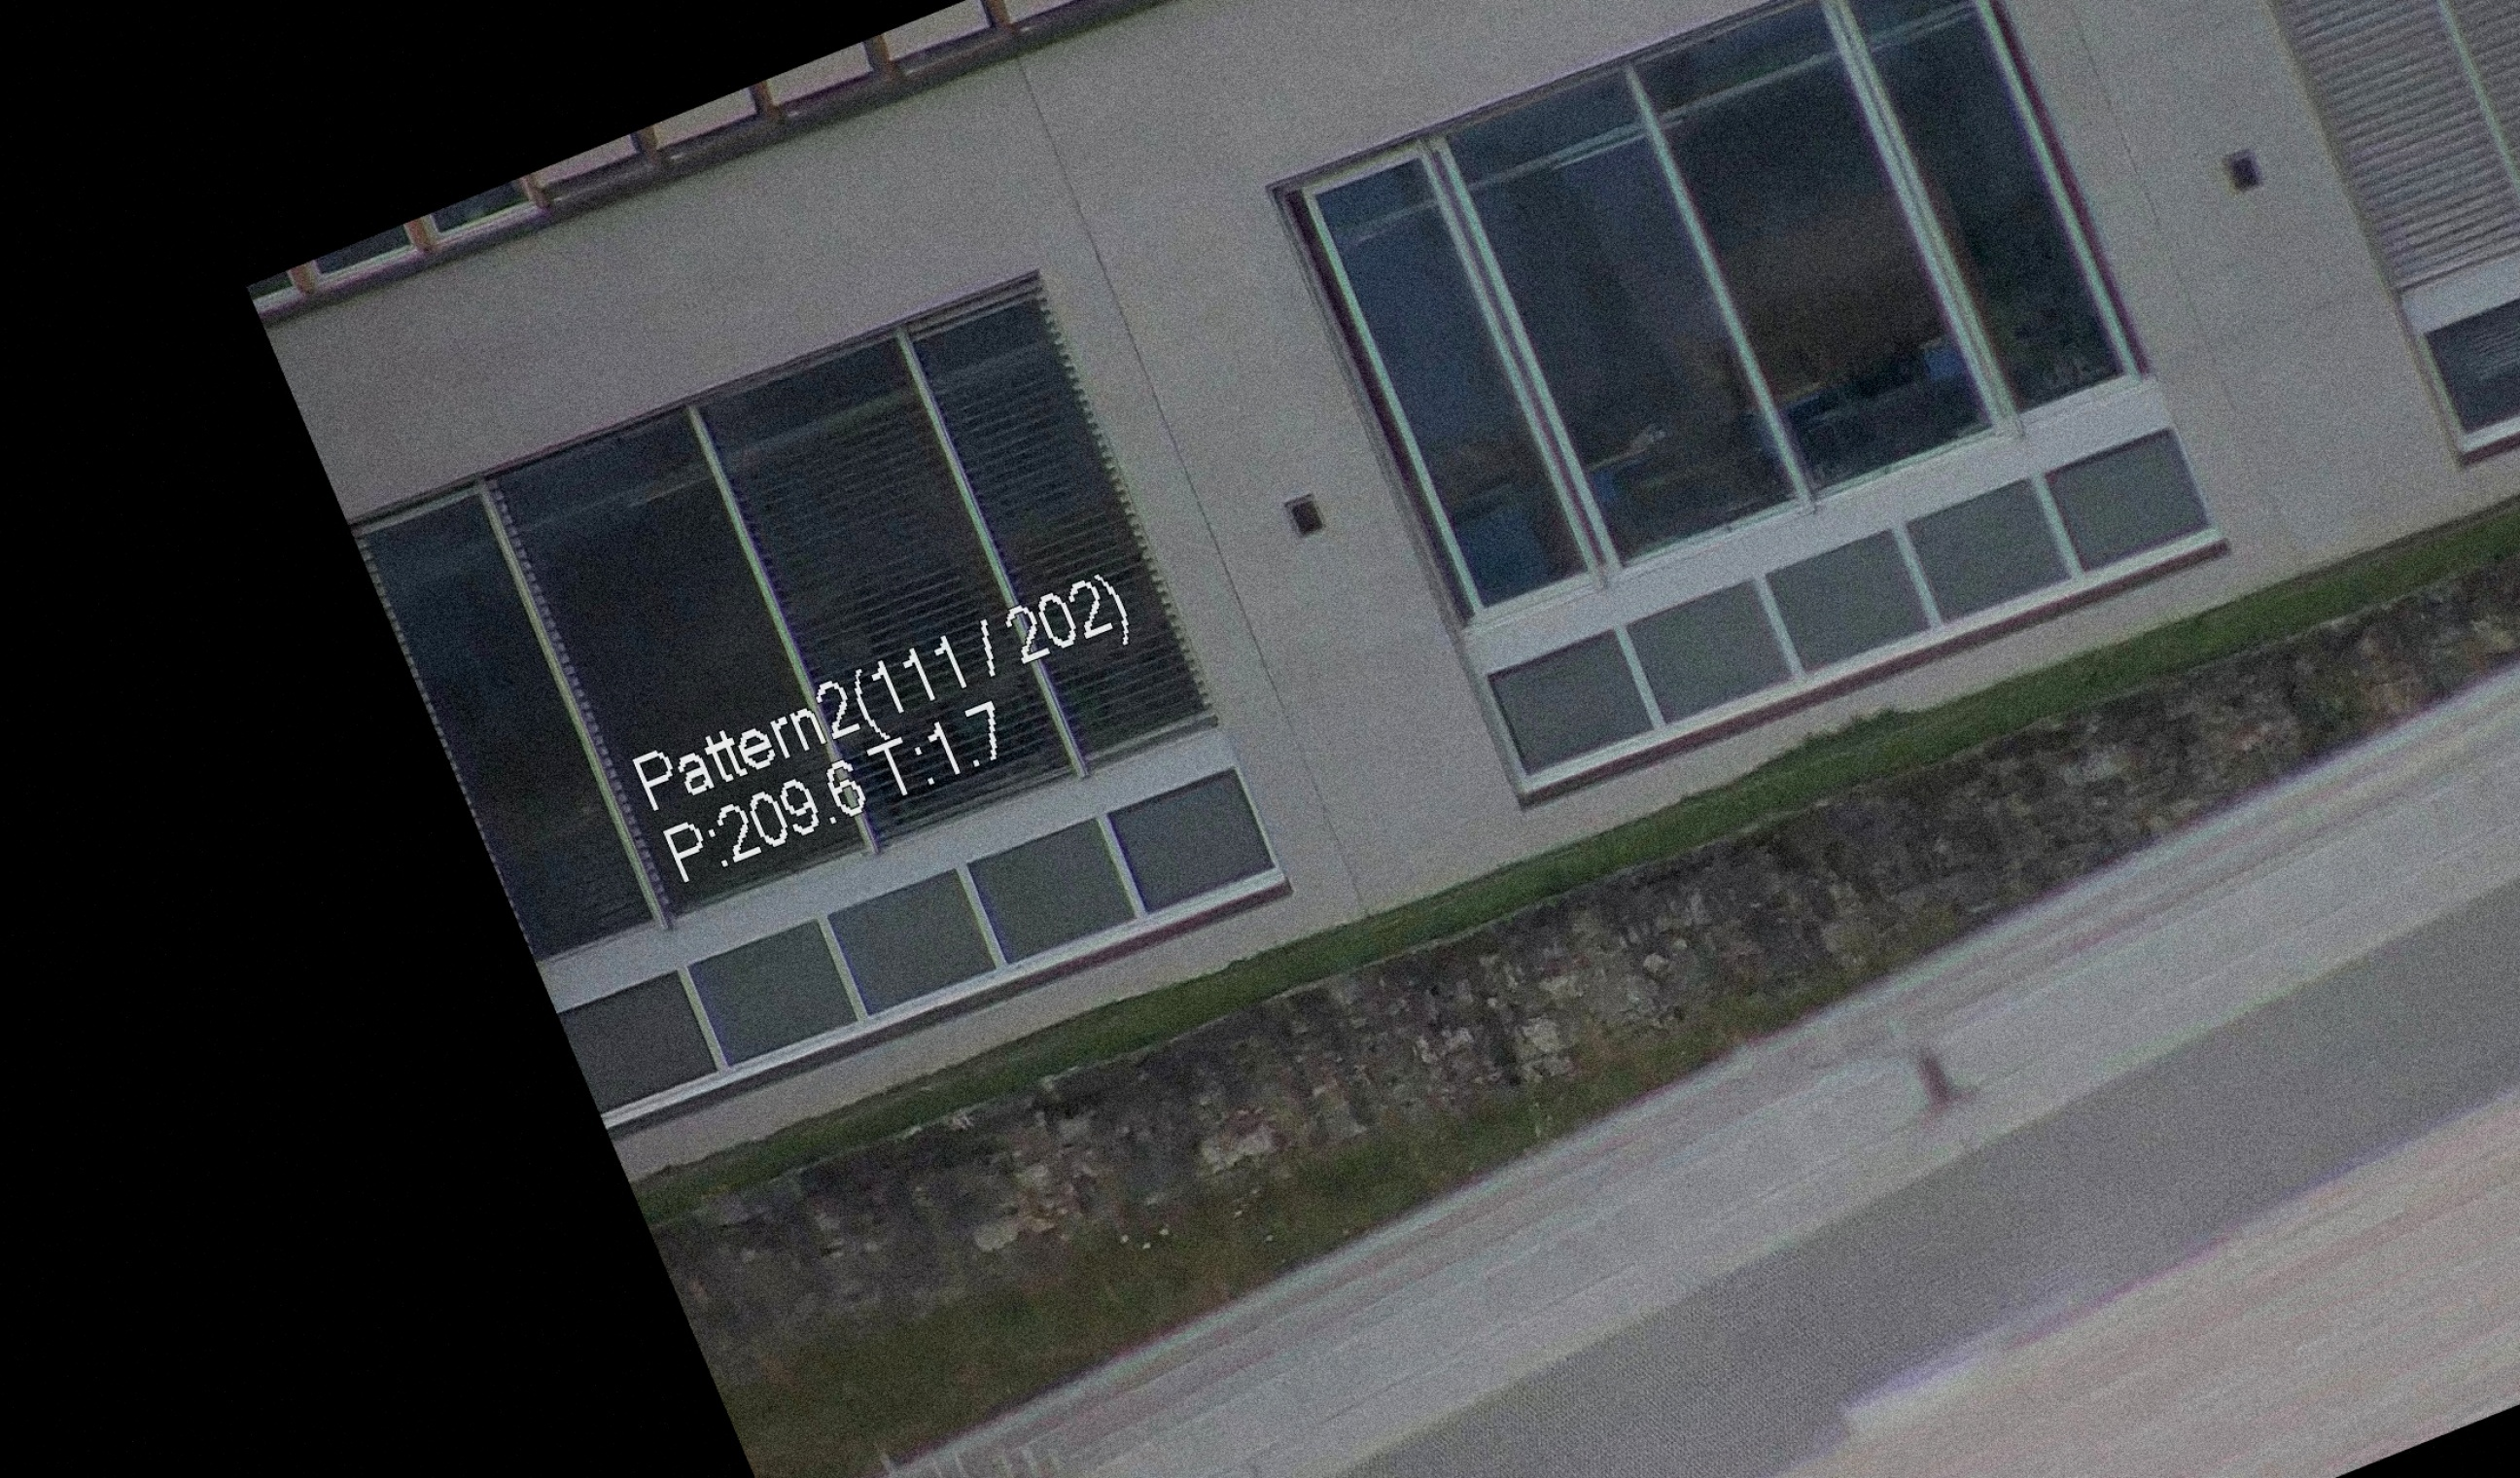Other: (1882, 1005, 1989, 1133)
